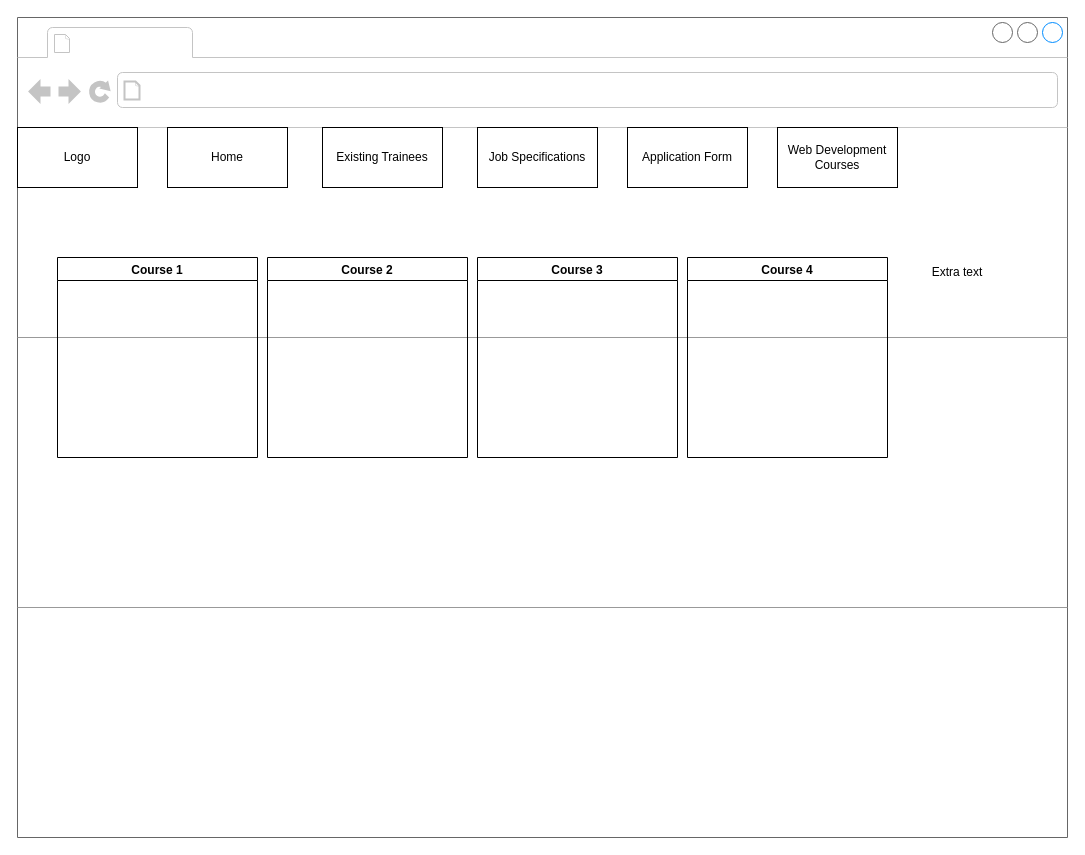
The diagram is 1085 pixels wide and 855 high, and some of its shapes have lost their labels. The shapes that lost their labels are listed below. From the top down, each one's centre as x and y in pixels, then its label:
point 132,42: Hot Beans
point 272,90: https://www.Hot Beans.com
